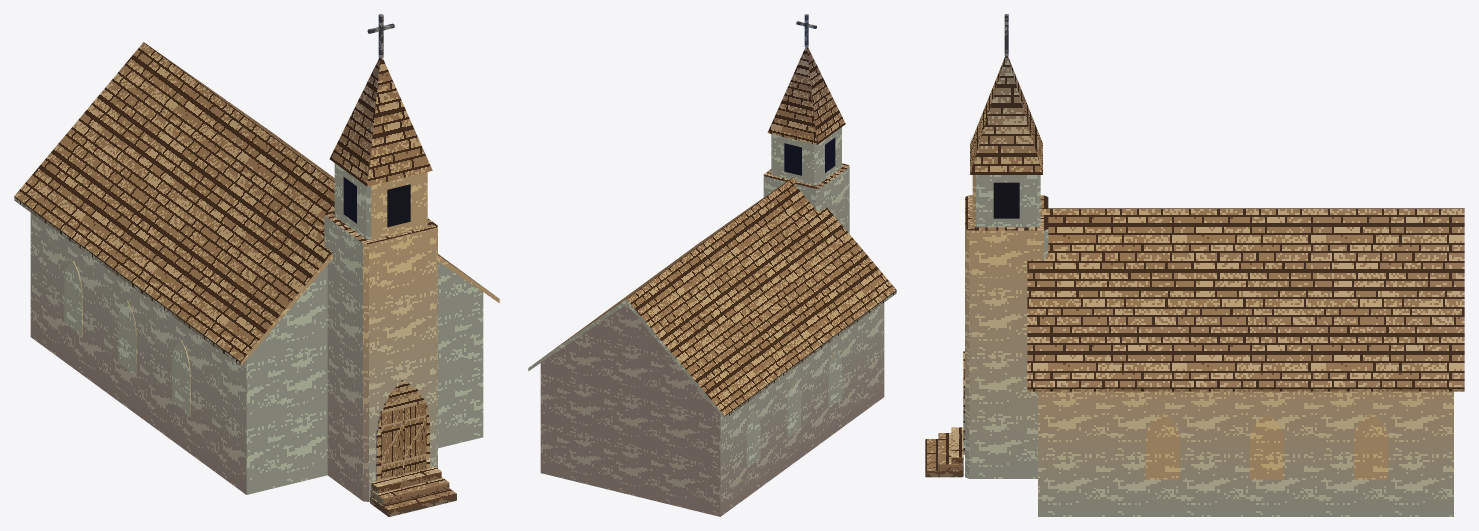
File: wtown.church.glb
3 renders of one model, left to right at view 1: azimuth 30°, elevation 25°; view 2: azimuth 150°, elevation 25°; view 3: azimuth 270°, elevation 25°, orthographic. The views are drawn at different scales.
Parts seen in each view (by area): view 1: kit_roof, kit_body, kit_tower, kit_spire, kit_card_panes, kit_belfry, kit_windows, kit_steps, kit_trim; view 2: kit_body, kit_roof, kit_spire, kit_belfry, kit_tower, kit_windows, kit_card_panes; view 3: kit_roof, kit_body, kit_tower, kit_windows, kit_spire, kit_belfry, kit_steps, kit_card_panes.
Part boxes in pixels (box(x1,y1,x2,y2)): kit_roof: box(14, 42, 499, 365); kit_body: box(30, 213, 483, 494); kit_tower: box(324, 211, 437, 501); kit_spire: box(329, 58, 432, 186); kit_card_panes: box(343, 177, 426, 478); kit_belfry: box(334, 163, 427, 239); kit_windows: box(64, 261, 190, 415); kit_steps: box(370, 467, 456, 516); kit_trim: box(376, 380, 429, 481); kit_body: box(540, 303, 884, 516); kit_roof: box(528, 177, 896, 419); kit_spire: box(767, 47, 845, 144); kit_belfry: box(771, 127, 841, 185); kit_tower: box(763, 163, 849, 233); kit_windows: box(746, 351, 842, 468); kit_card_panes: box(784, 137, 835, 175); kit_roof: box(1027, 208, 1464, 391); kit_body: box(1038, 391, 1453, 516); kit_tower: box(965, 195, 1048, 478); kit_windows: box(1145, 413, 1388, 479); kit_spire: box(970, 56, 1042, 174); kit_belfry: box(972, 175, 1040, 227); kit_steps: box(925, 427, 963, 477); kit_card_panes: box(993, 182, 1019, 218).
Size of the model in its own units: 8.3 by 14.2 by 15.54.
9 materials, 9 textured.
